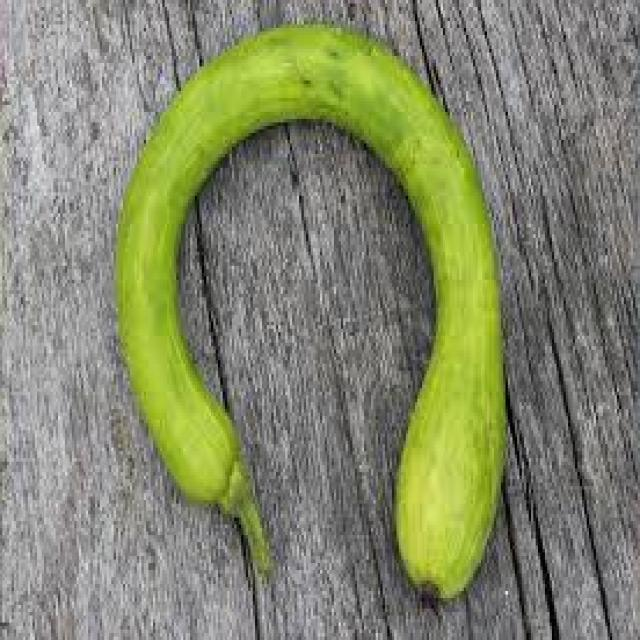Wet: (71, 8, 582, 624)
